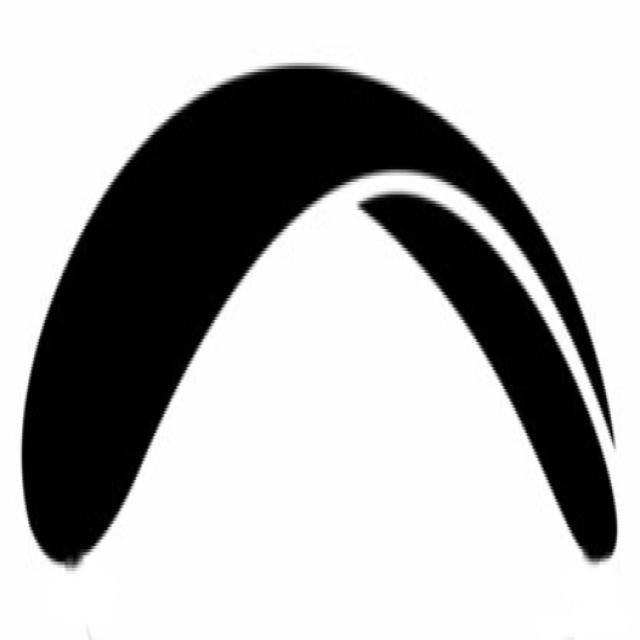paraglider: (20, 60, 618, 574)
